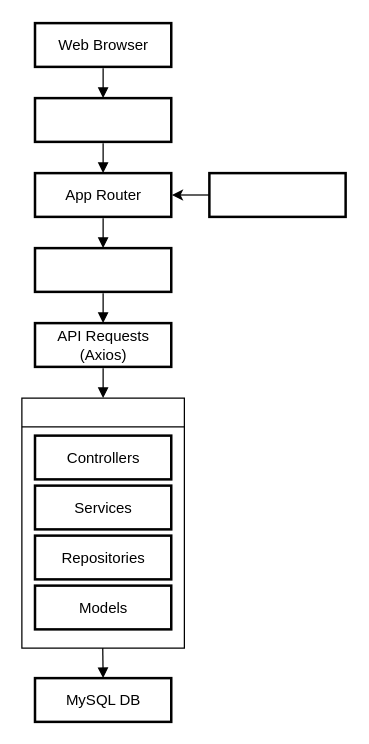
Some shapes in this 369 by 744 pixel diagram are drawn without their labels. The shapes that lost their labels are listed below. From the top down, each one's box as (x1, y1, x2, y2) in pixels, then its label:
(33, 96, 172, 142): Next.js Frontend App
(208, 171, 346, 218): Components
(33, 246, 172, 292): State Management (React Context)
(21, 397, 184, 648): Spring Boot App
